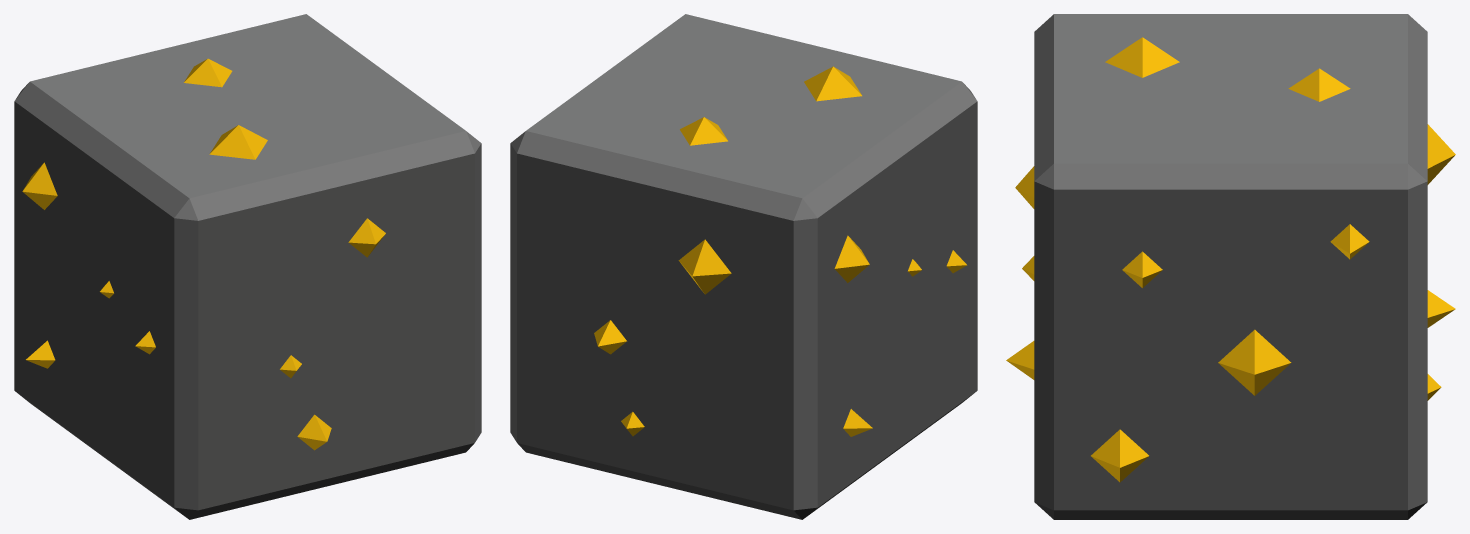
File: m_kub_ore_cubeBig.FBX
3 views of the same model, side by side, from view 1: azimuth 30°, elevation 25°; view 2: azimuth 150°, elevation 25°; view 3: azimuth 270°, elevation 25° (orthographic). The views are drawn at different scales.
Visible parts, largest first — view 1: m_kub_ore_cubeBig; view 2: m_kub_ore_cubeBig; view 3: m_kub_ore_cubeBig.
Part boxes in pixels (bbox=[...]): m_kub_ore_cubeBig: bbox=[14, 14, 481, 519]; m_kub_ore_cubeBig: bbox=[510, 14, 977, 519]; m_kub_ore_cubeBig: bbox=[1006, 14, 1455, 519].
Bounding box in the file's own units: 2.29 × 2.14 × 2.29.
